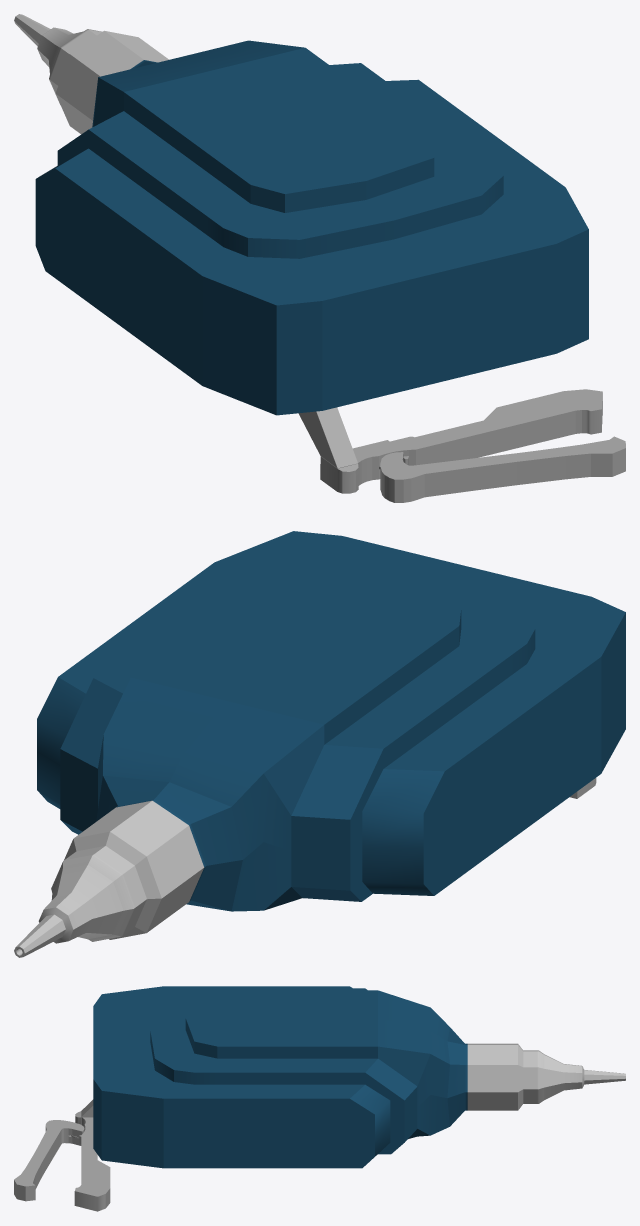
Rendered from syuusei.fbx.
3 renders of one model, top to bottom at view 1: azimuth 30°, elevation 25°; view 2: azimuth 150°, elevation 25°; view 3: azimuth 270°, elevation 25°, orthographic. The views are drawn at different scales.
Visible parts, largest first — view 1: polySurface7; view 2: polySurface7; view 3: polySurface7.
Boxes of the visible parts, left/top/right/bottom form: polySurface7: left=14, top=14, right=625, bottom=502; polySurface7: left=14, top=531, right=625, bottom=957; polySurface7: left=14, top=986, right=625, bottom=1211.
Size of the model in its own units: 34.89 by 20.52 by 80.3.
